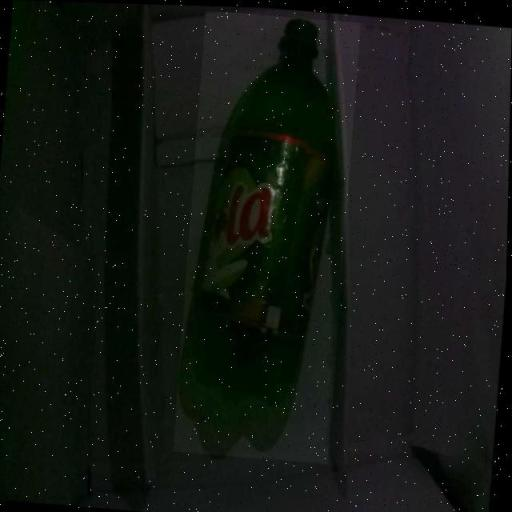plastic: (174, 9, 361, 464)
